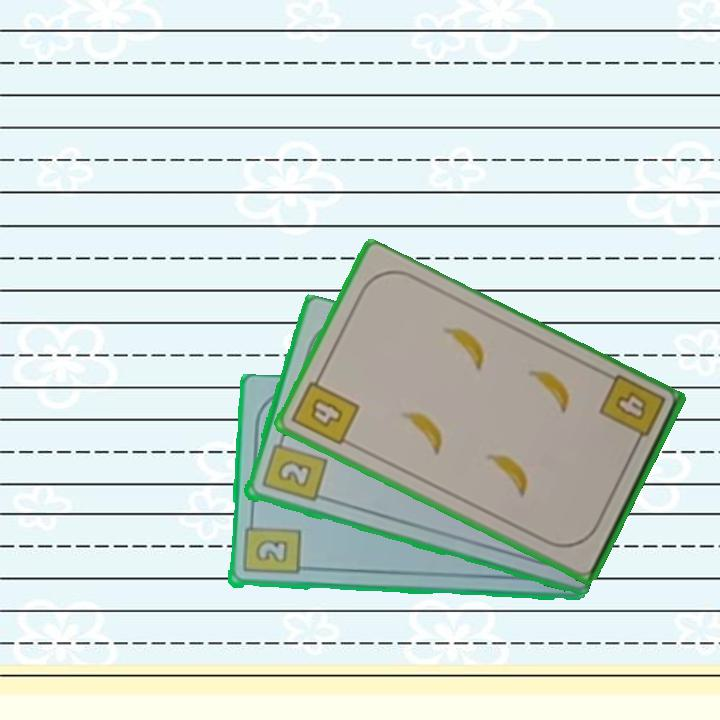2b: (258, 432, 329, 505), (239, 515, 302, 578)
4b: (595, 371, 669, 452), (288, 370, 363, 449)
